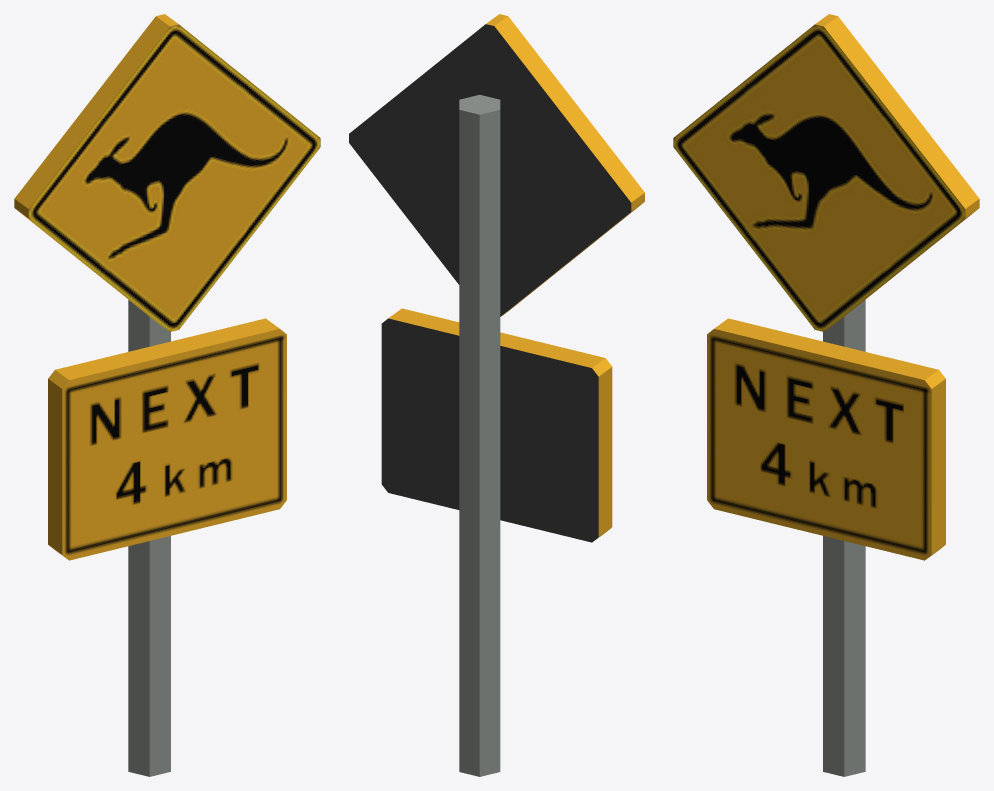
File: Sign_02.fbx
The picture shows the model from 3 angles, left to right: view 1: azimuth 30°, elevation 25°; view 2: azimuth 150°, elevation 25°; view 3: azimuth 330°, elevation 25°; orthographic projection. The views are drawn at different scales.
Visible parts, largest first — view 1: Sign_02; view 2: Sign_02; view 3: Sign_02.
Boxes of the visible parts, box(x1,y1,x2,y2) form: Sign_02: box(14, 14, 320, 776); Sign_02: box(349, 14, 644, 776); Sign_02: box(673, 14, 979, 776).
Size of the model in its own units: 137 by 341 by 28.92.
Materials: 1 (1 with a texture image).
